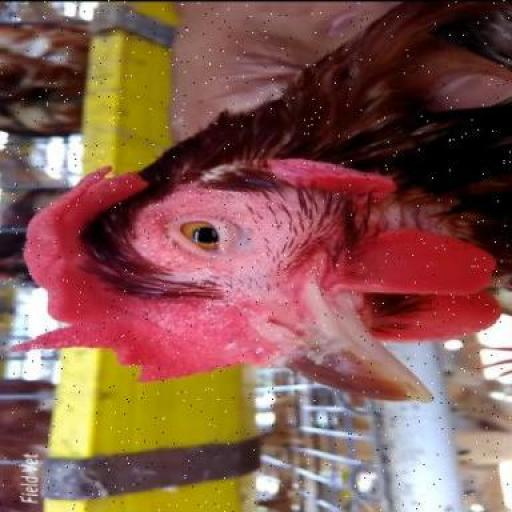disease: (137, 183, 281, 287)
